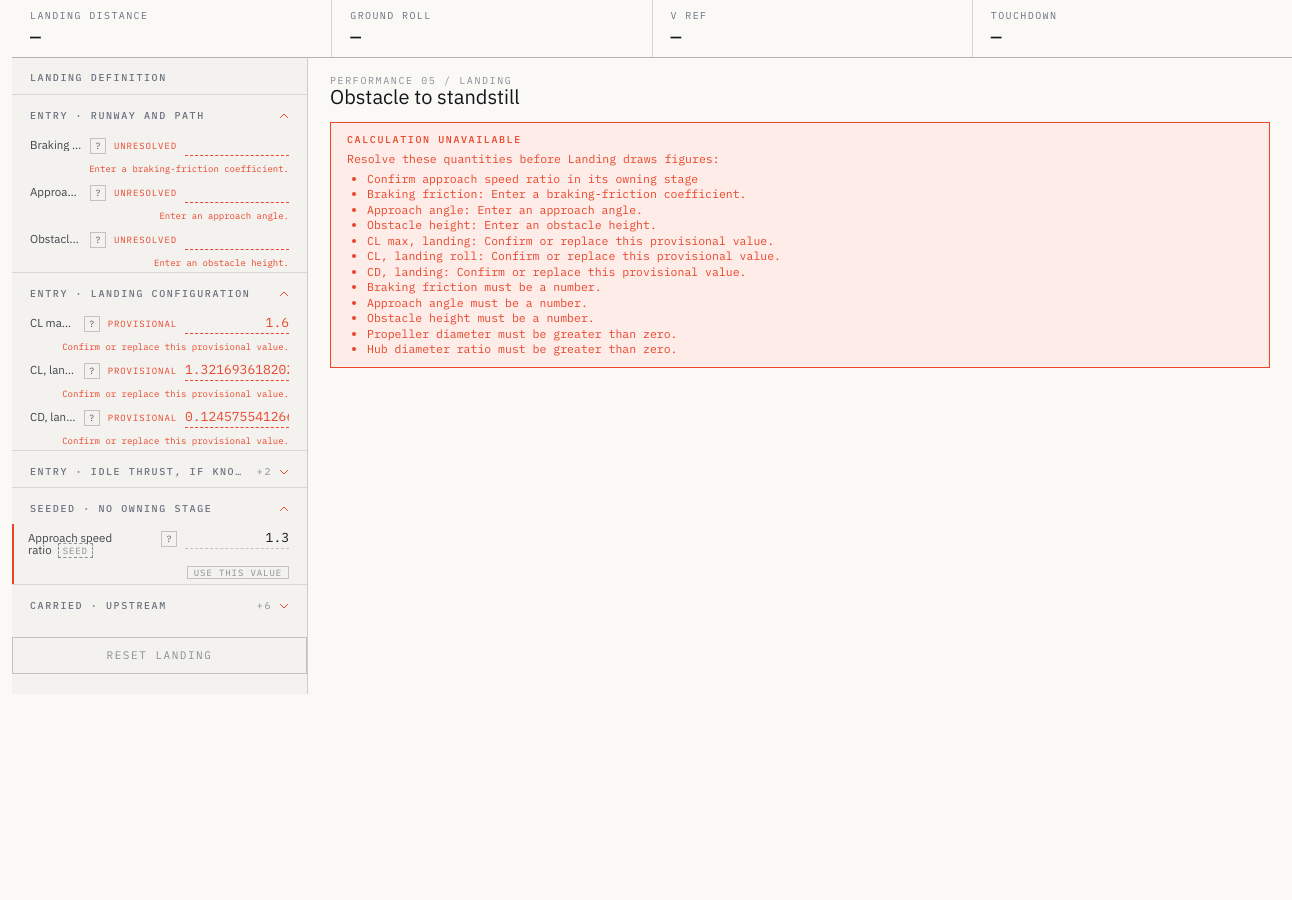
a seeded quantity can be resolved from the sheet that needs it › Landing offers the approach speed ratio it used to demand from nowhere
Check: the list item "Confirm approach speed ratio in its owning stage" is shown, box [367,170,698,186]
Click the button "USE THIS VALUE".
click(238, 572)  # box [187,566,289,579]
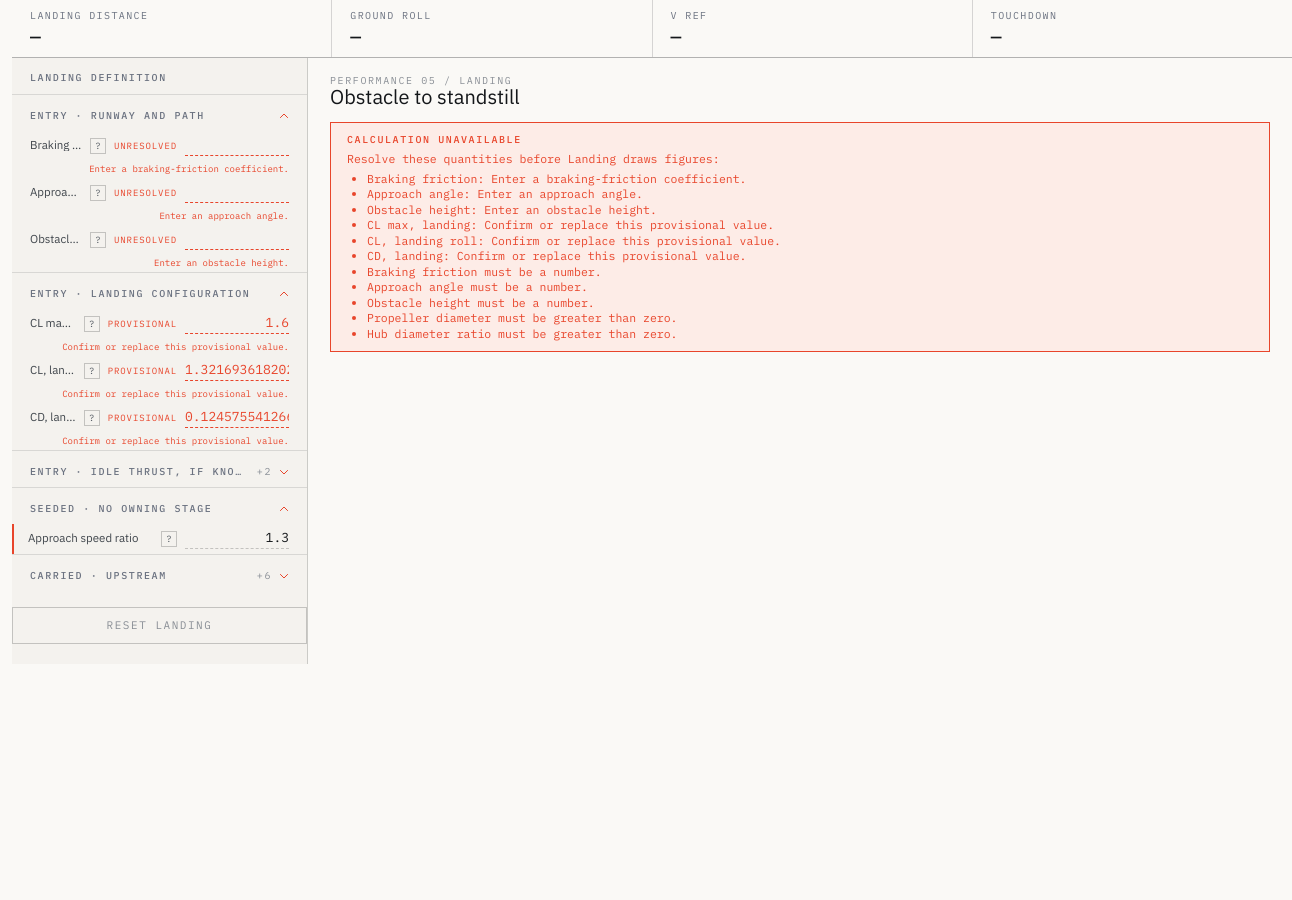
Check: the list item "Confirm approach speed ratio in its owning stage" is gone
